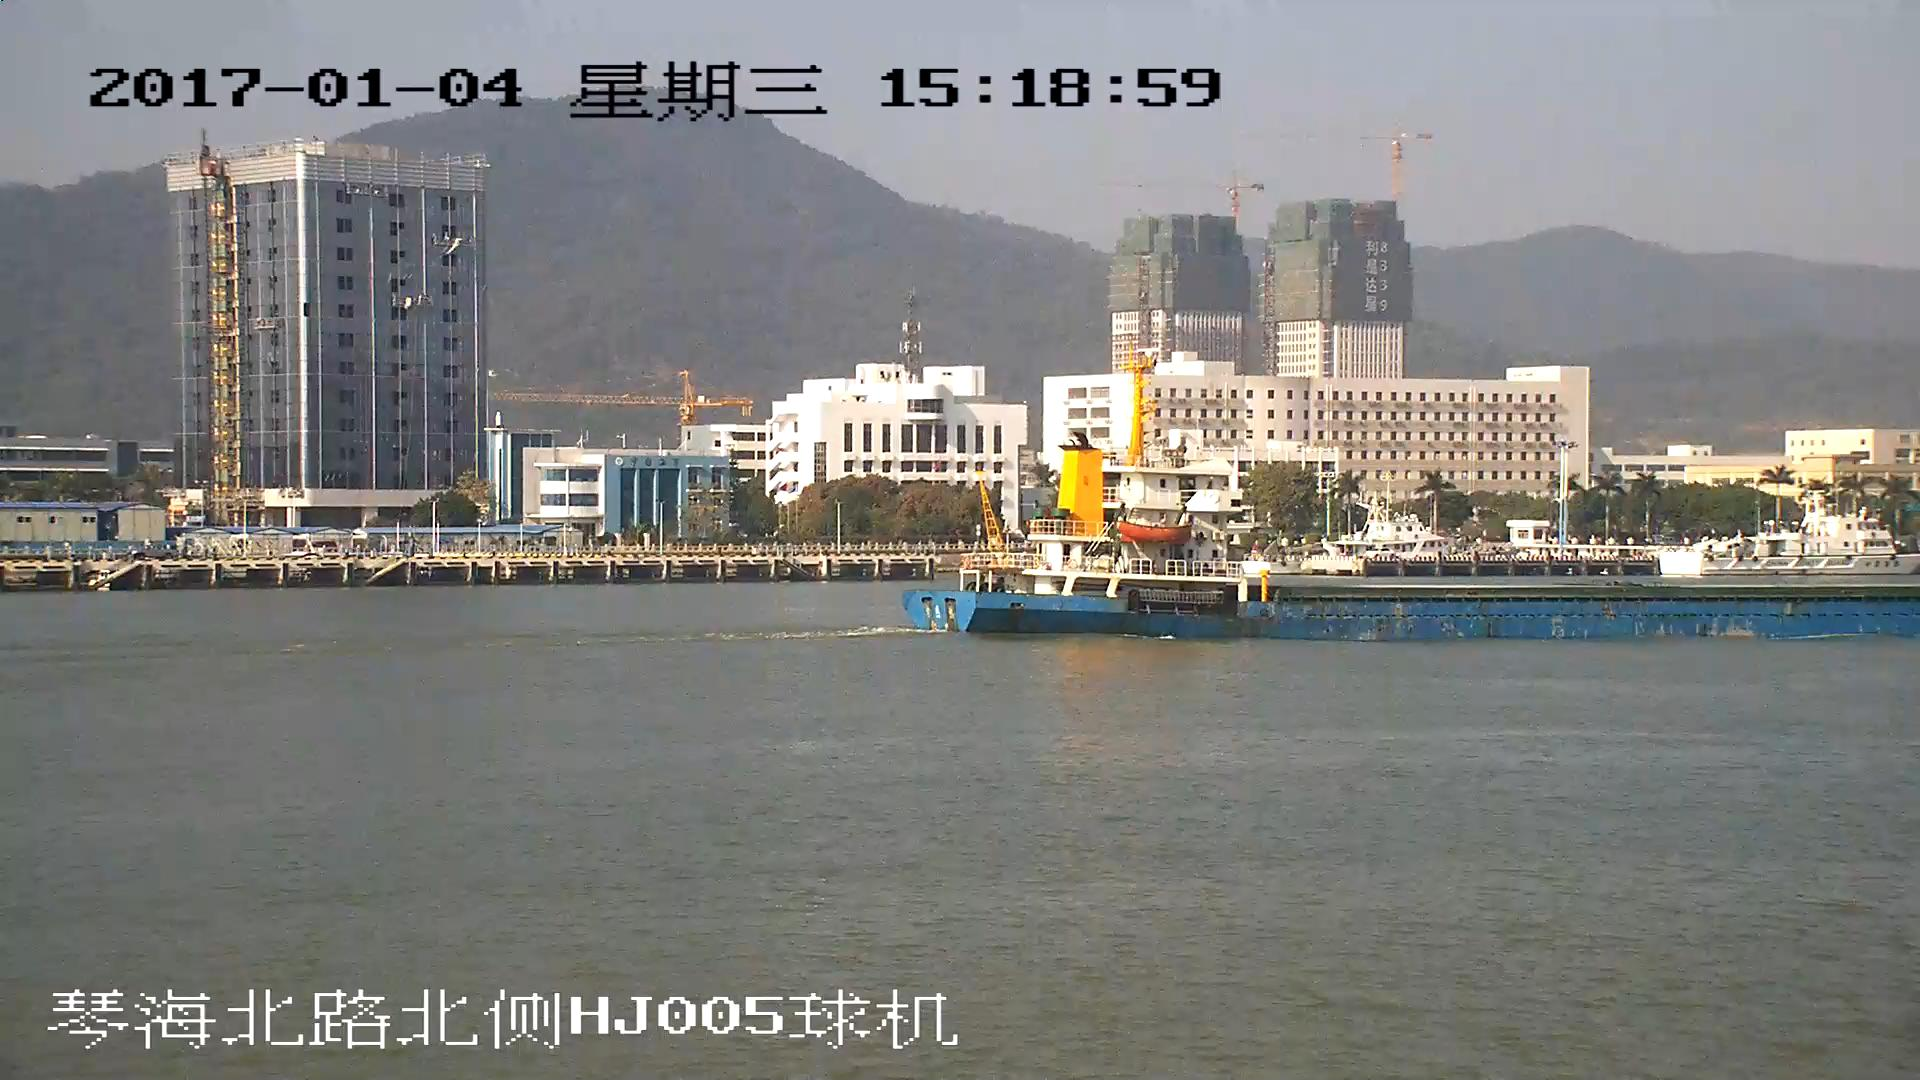general cargo ship: (903, 362, 1920, 641)
